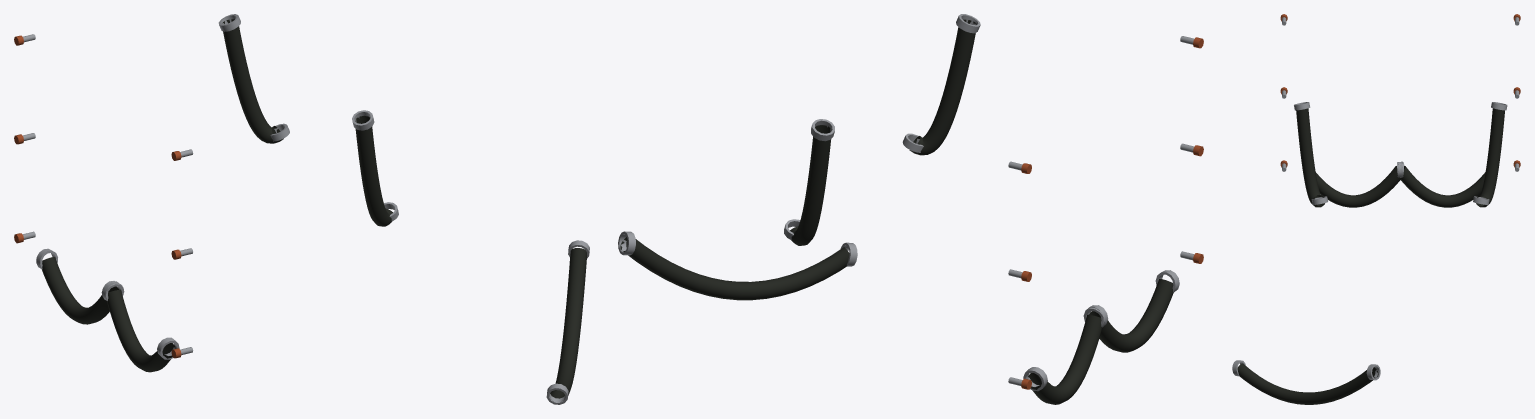
Rendered from u500_hoses.obj.
3 views of the same model, side by side, from view 1: azimuth 30°, elevation 25°; view 2: azimuth 150°, elevation 25°; view 3: azimuth 270°, elevation 25° (orthographic). The views are drawn at different scales.
Parts seen in each view (by area): view 1: u500_hoses; view 2: u500_hoses; view 3: u500_hoses.
Boxes of the visible parts, bbox=[...] form: u500_hoses: bbox=[14, 14, 589, 404]; u500_hoses: bbox=[618, 14, 1203, 404]; u500_hoses: bbox=[1232, 14, 1520, 404].
Bounding box in the file's own units: 4.53 × 3.02 × 3.22.
